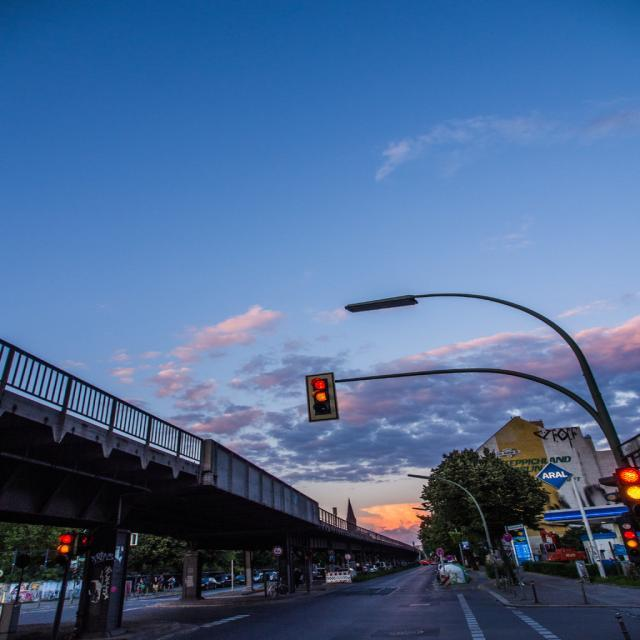traffic light: (310, 378, 333, 419)
